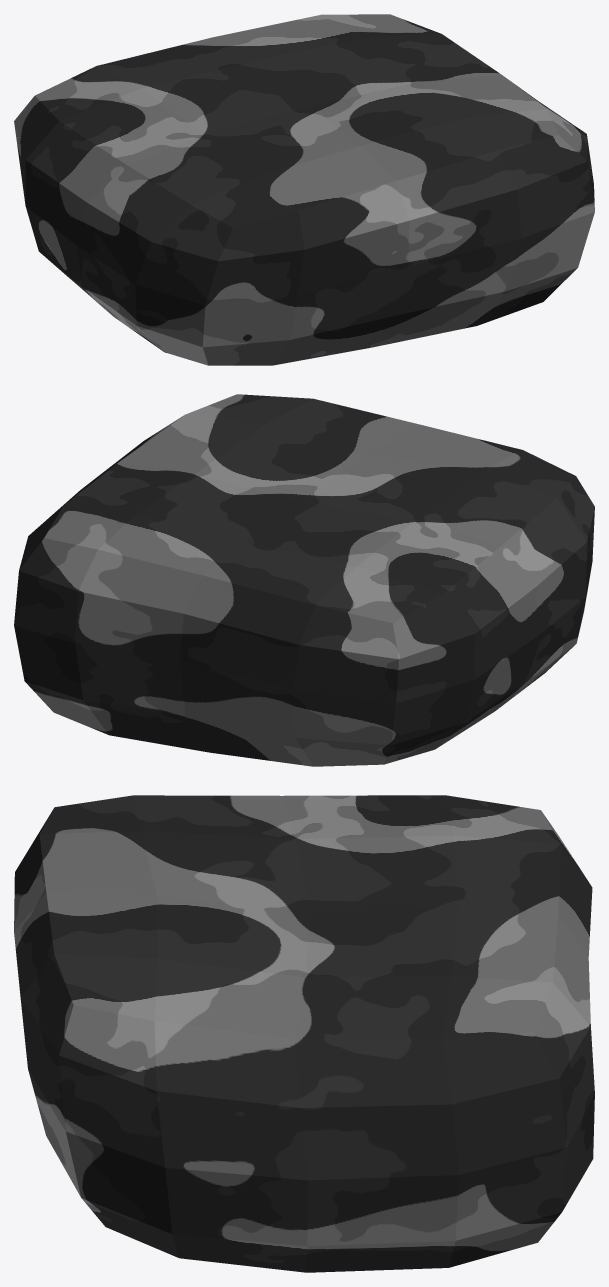
File: Rock1.fbx
3 renders of one model, top to bottom at view 1: azimuth 30°, elevation 25°; view 2: azimuth 150°, elevation 25°; view 3: azimuth 270°, elevation 25°, orthographic. The views are drawn at different scales.
Parts seen in each view (by area): view 1: Cube; view 2: Cube; view 3: Cube.
Part boxes in pixels (<box>): Cube: <box>14,14,594,365</box>; Cube: <box>14,394,594,766</box>; Cube: <box>14,795,594,1272</box>.
Size of the model in its own units: 234 by 106 by 198.
1 material, 1 textured.
